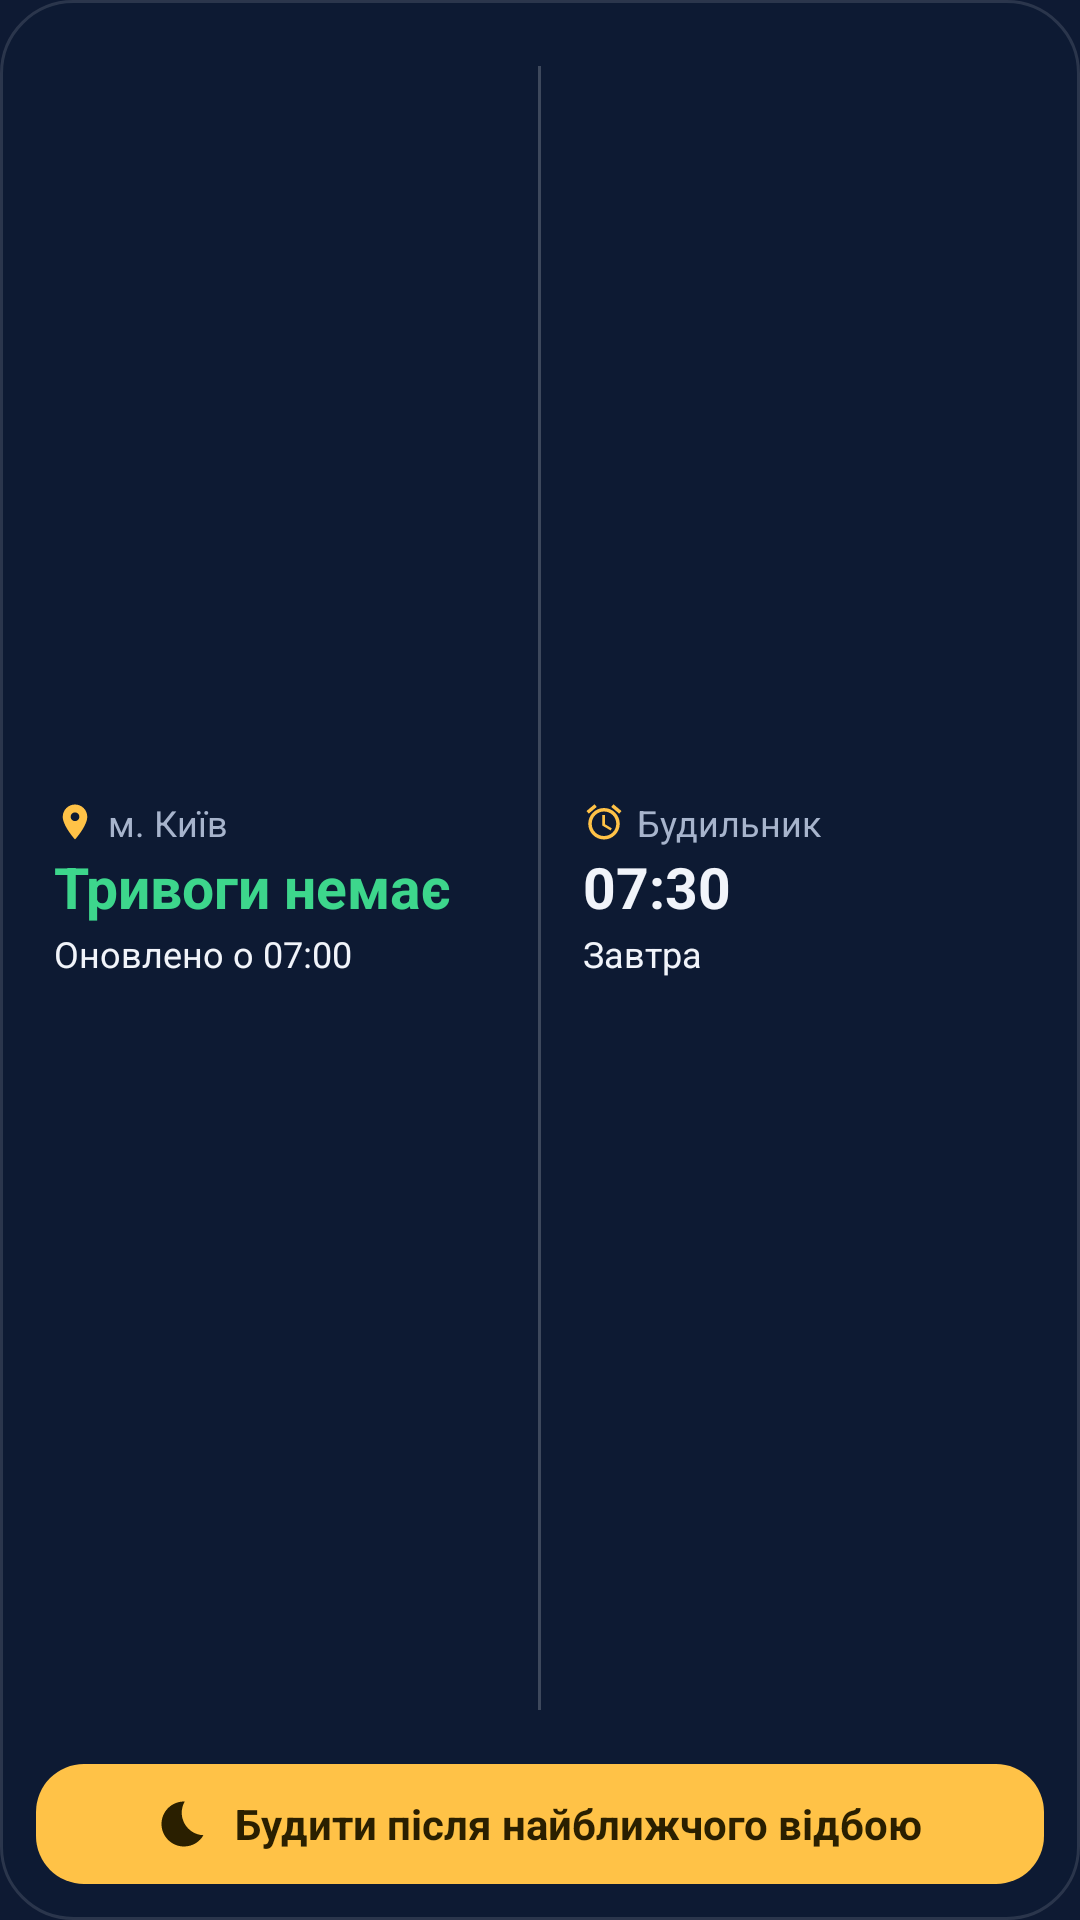

Icons on this 1080 x 1920 Android screen, each with the point to tap as (x,y):
widget place: (75,821)
